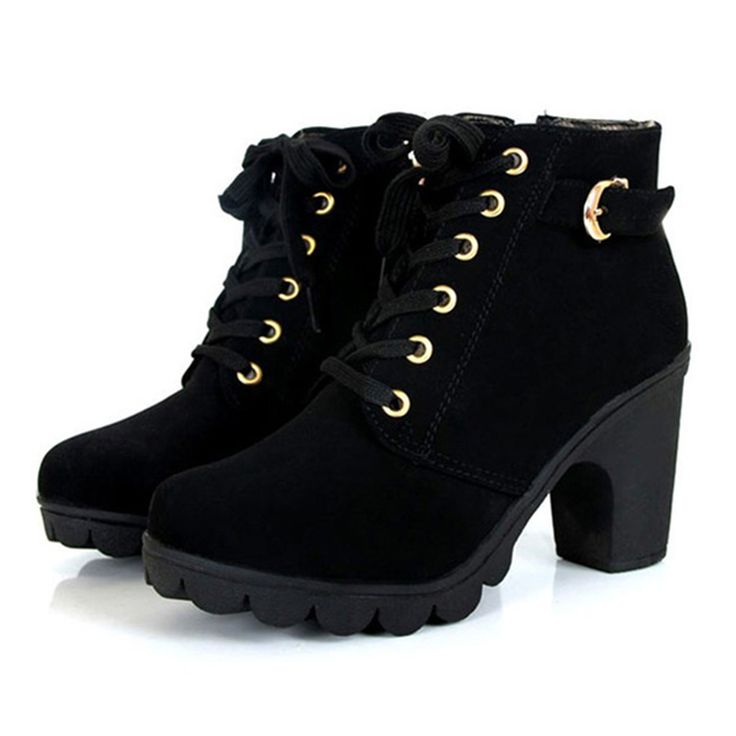gamuza: (39, 113, 688, 588)
